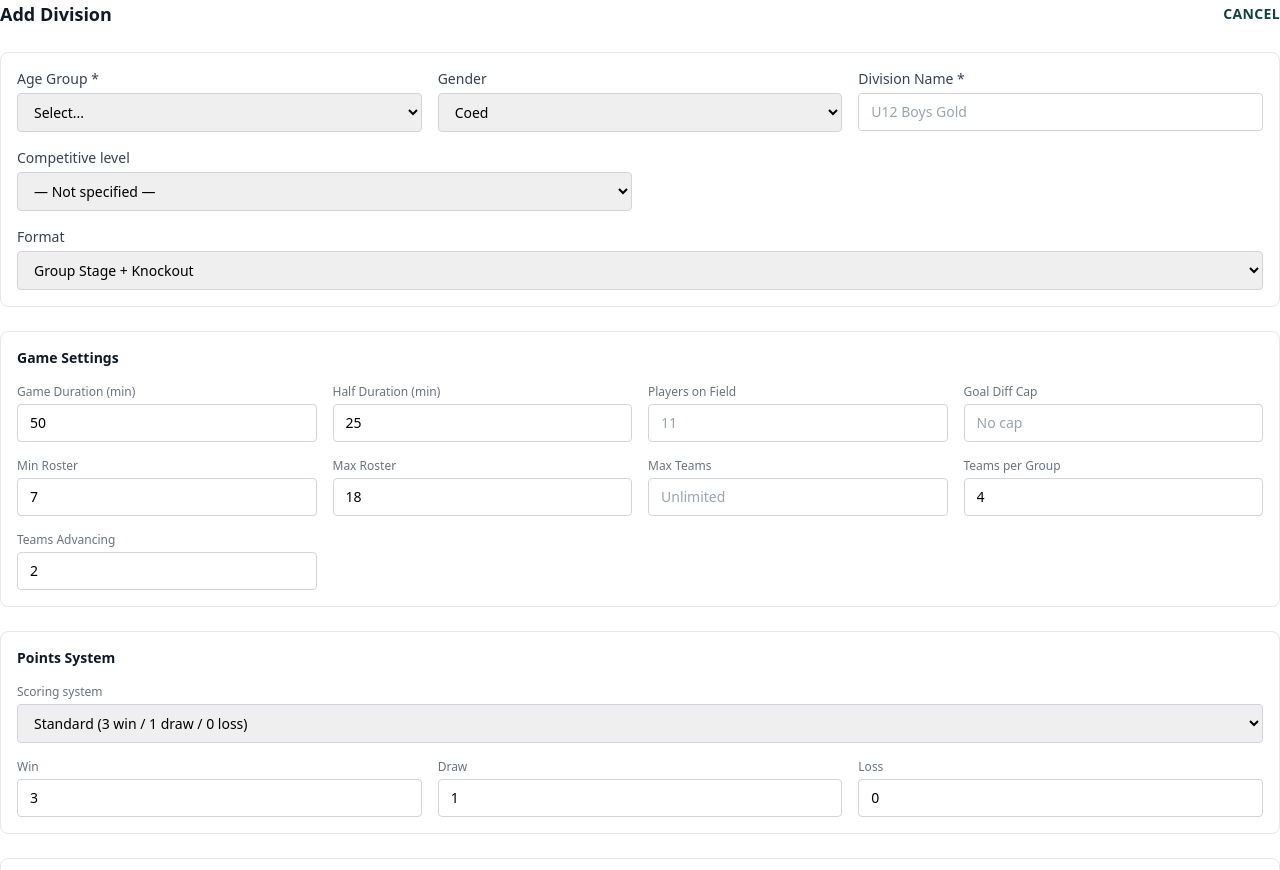
it: DivisionForm › format change shows/hides group-specific fields
Expected: the text "Teams per Group" is shown, 964,457 -> 1061,474
Switch to single_elimination — should hide group fields
Select "Single Elimination" in the dropdown showing "Group Stage + Knockout" below "Format" at x=640, y=270, box 17,251 -> 1263,290
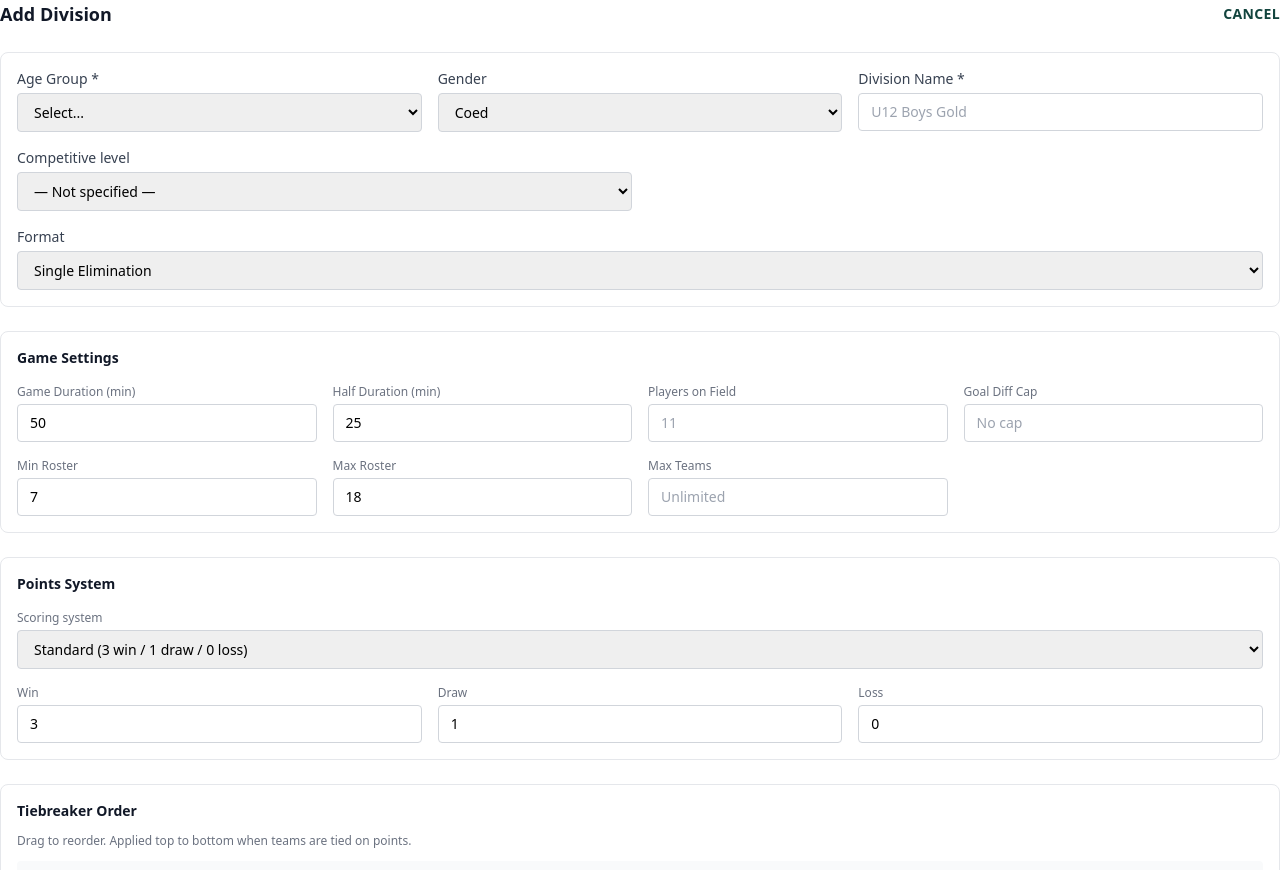
Expected: the text "Teams per Group" is gone
